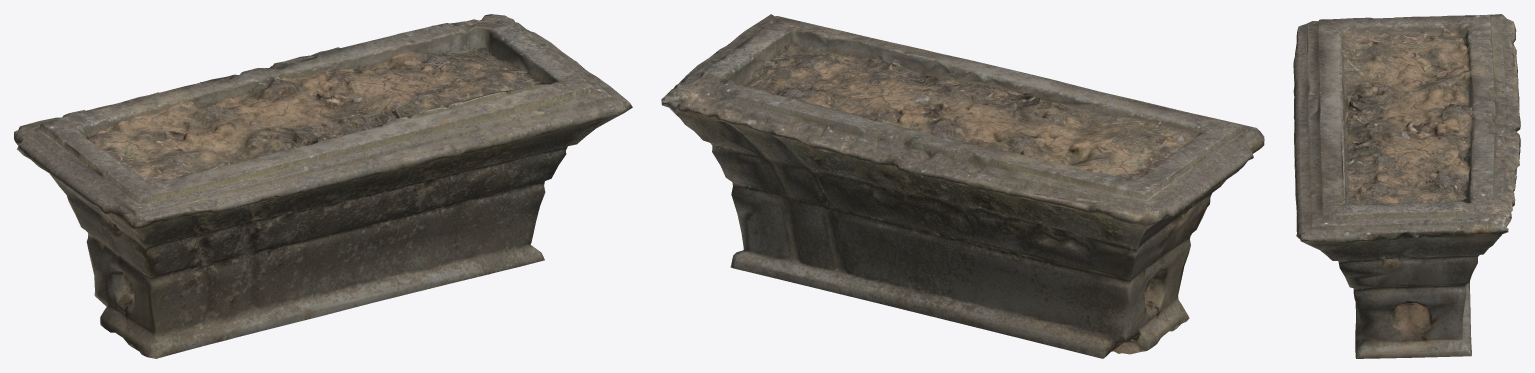
File: PX_Discarded_Flower_Pot_01_LOD2.fbx
3 views of the same model, side by side, from view 1: azimuth 30°, elevation 25°; view 2: azimuth 150°, elevation 25°; view 3: azimuth 270°, elevation 25° (orthographic). The views are drawn at different scales.
Parts seen in each view (by area): view 1: PX_Discarded_Flower_Pot_01_LOD2; view 2: PX_Discarded_Flower_Pot_01_LOD2; view 3: PX_Discarded_Flower_Pot_01_LOD2.
Part boxes in pixels (box(x1,y1,x2,y2)): PX_Discarded_Flower_Pot_01_LOD2: box(14, 14, 632, 358); PX_Discarded_Flower_Pot_01_LOD2: box(661, 14, 1264, 358); PX_Discarded_Flower_Pot_01_LOD2: box(1293, 14, 1520, 358).
Size of the model in its own units: 150 by 52.95 by 65.91.
